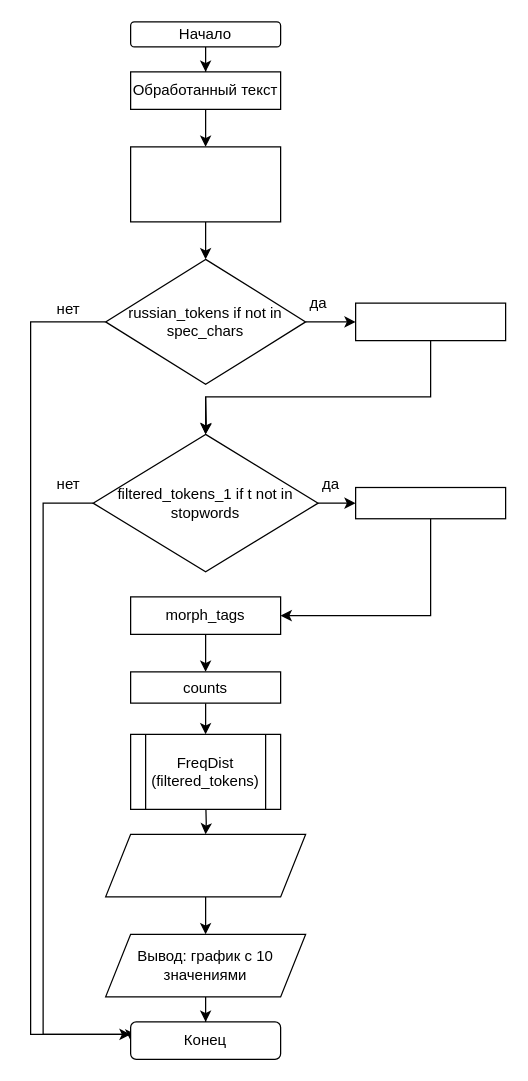
This 528x1081 diagram has some shape labels left out. The shapes that lost their labels are listed below. From the top down, each one's centre as x and y in pixels, then its label:
At (205,184): "Токенизация по словам (russian_tokens)".
At (430,321): "filtered_tokens_1".
At (430,502): "filtered_tokens_2".
At (205,865): "Вывод: fdist(most_common(10))".
